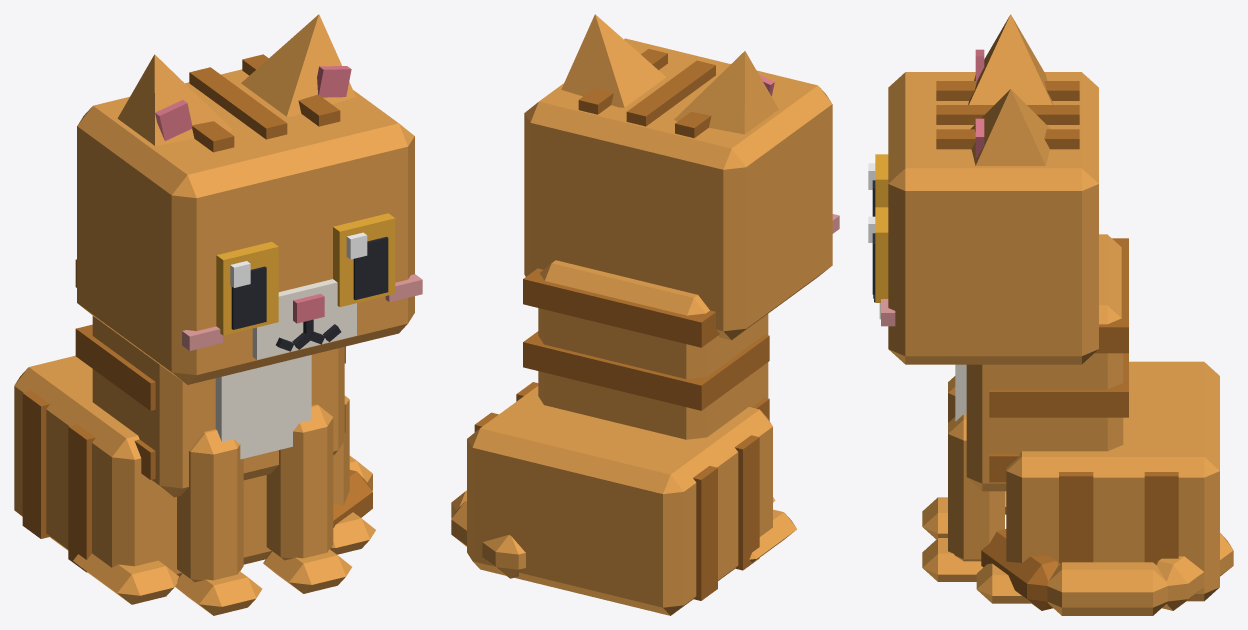
File: CatCafe_Cat_Tabby_Sit.glb
The picture shows the model from 3 angles, left to right: view 1: azimuth 30°, elevation 25°; view 2: azimuth 150°, elevation 25°; view 3: azimuth 270°, elevation 25°; orthographic projection. The views are drawn at different scales.
Parts seen in each view (by area): view 1: CatCafe_Cat_Tabby_Sit_Head, CatCafe_Cat_Tabby_Sit_Body, CatCafe_Cat_Tabby_Sit_LegF2, CatCafe_Cat_Tabby_Sit_LegF1, CatCafe_Cat_Tabby_Sit_EarL, CatCafe_Cat_Tabby_Sit_Eye2, CatCafe_Cat_Tabby_Sit_Eye1, CatCafe_Cat_Tabby_Sit_EarR, CatCafe_Cat_Tabby_Sit_Tail; view 2: CatCafe_Cat_Tabby_Sit_Body, CatCafe_Cat_Tabby_Sit_Head, CatCafe_Cat_Tabby_Sit_EarL, CatCafe_Cat_Tabby_Sit_EarR, CatCafe_Cat_Tabby_Sit_Tail; view 3: CatCafe_Cat_Tabby_Sit_Head, CatCafe_Cat_Tabby_Sit_Body, CatCafe_Cat_Tabby_Sit_Tail, CatCafe_Cat_Tabby_Sit_LegF1, CatCafe_Cat_Tabby_Sit_EarL, CatCafe_Cat_Tabby_Sit_EarR, CatCafe_Cat_Tabby_Sit_Eye1, CatCafe_Cat_Tabby_Sit_LegF2, CatCafe_Cat_Tabby_Sit_Eye2.
Part boxes in pixels (bbox=[...]): CatCafe_Cat_Tabby_Sit_Head: bbox=[77, 54, 422, 384]; CatCafe_Cat_Tabby_Sit_Body: bbox=[14, 259, 375, 604]; CatCafe_Cat_Tabby_Sit_LegF2: bbox=[175, 429, 262, 615]; CatCafe_Cat_Tabby_Sit_LegF1: bbox=[263, 404, 351, 593]; CatCafe_Cat_Tabby_Sit_EarL: bbox=[241, 14, 355, 116]; CatCafe_Cat_Tabby_Sit_Eye2: bbox=[216, 241, 278, 335]; CatCafe_Cat_Tabby_Sit_Eye1: bbox=[333, 213, 395, 306]; CatCafe_Cat_Tabby_Sit_EarR: bbox=[117, 54, 232, 145]; CatCafe_Cat_Tabby_Sit_Tail: bbox=[333, 456, 372, 527]; CatCafe_Cat_Tabby_Sit_Body: bbox=[467, 260, 796, 615]; CatCafe_Cat_Tabby_Sit_Head: bbox=[524, 38, 839, 340]; CatCafe_Cat_Tabby_Sit_EarL: bbox=[561, 14, 665, 107]; CatCafe_Cat_Tabby_Sit_EarR: bbox=[674, 51, 778, 134]; CatCafe_Cat_Tabby_Sit_Tail: bbox=[451, 490, 525, 578]; CatCafe_Cat_Tabby_Sit_Head: bbox=[873, 72, 1098, 364]; CatCafe_Cat_Tabby_Sit_Body: bbox=[955, 234, 1219, 603]; CatCafe_Cat_Tabby_Sit_Tail: bbox=[981, 529, 1233, 615]; CatCafe_Cat_Tabby_Sit_LegF1: bbox=[922, 414, 1004, 581]; CatCafe_Cat_Tabby_Sit_EarL: bbox=[970, 89, 1050, 165]; CatCafe_Cat_Tabby_Sit_EarR: bbox=[968, 14, 1053, 104]; CatCafe_Cat_Tabby_Sit_Eye1: bbox=[868, 207, 888, 302]; CatCafe_Cat_Tabby_Sit_LegF2: bbox=[922, 376, 955, 539]; CatCafe_Cat_Tabby_Sit_Eye2: bbox=[868, 154, 888, 216].
Bounding box in the file's own units: 1.05 × 1.85 × 1.22.
Materials: 1 (1 with a texture image).
